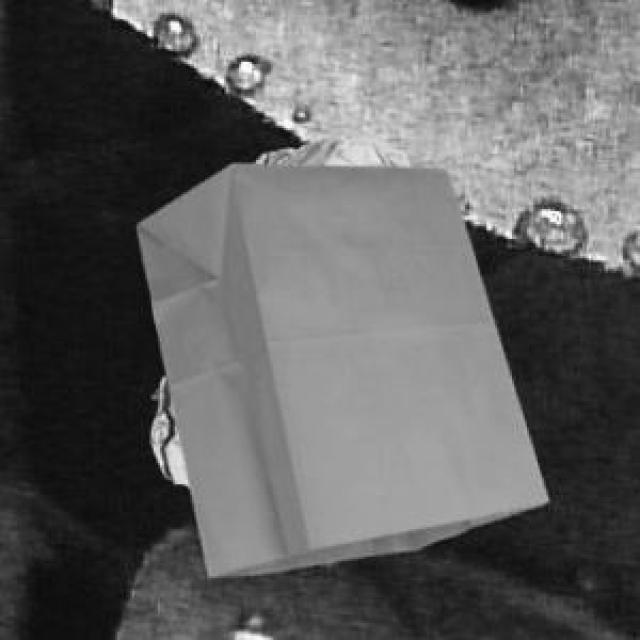paper: (132, 160, 544, 572), (240, 128, 404, 403), (147, 373, 240, 482)
